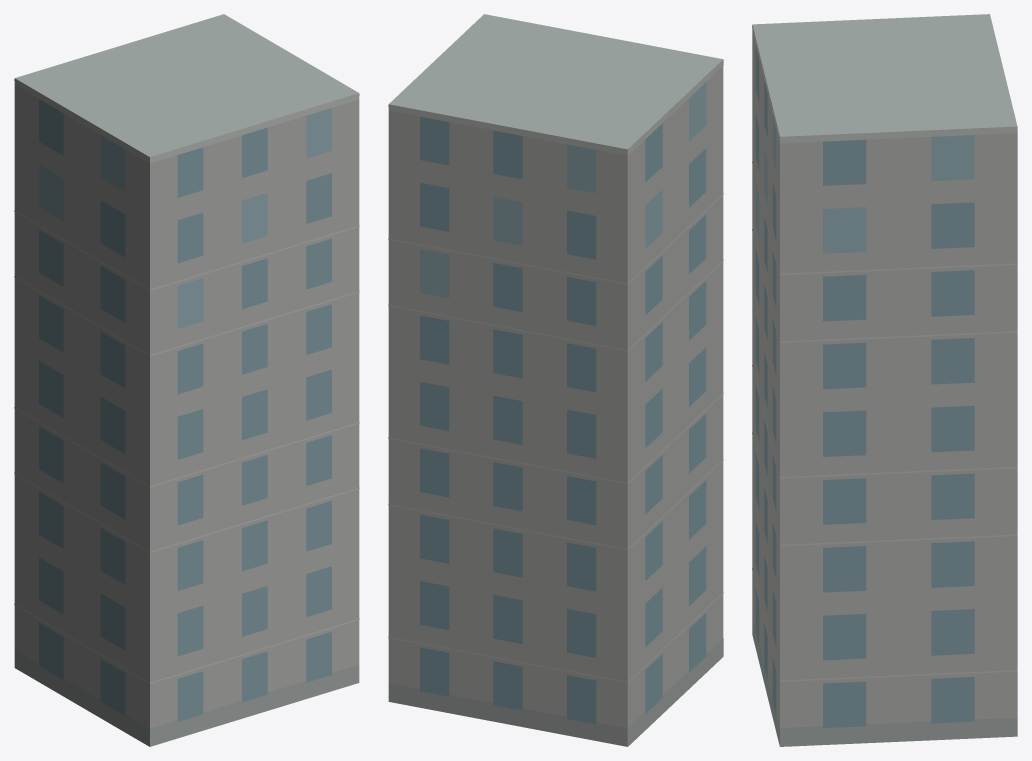
The model's file is survey-upis-32974123.glb.
3 views of the same model, side by side, from view 1: azimuth 30°, elevation 25°; view 2: azimuth 150°, elevation 25°; view 3: azimuth 270°, elevation 25° (orthographic). The views are drawn at different scales.
Parts seen in each view (by area): view 1: survey-upis-32974123.tmp; view 2: survey-upis-32974123.tmp; view 3: survey-upis-32974123.tmp.
Boxes of the visible parts, left/top/right/bottom form: survey-upis-32974123.tmp: left=14, top=14, right=359, bottom=746; survey-upis-32974123.tmp: left=388, top=14, right=723, bottom=746; survey-upis-32974123.tmp: left=752, top=14, right=1017, bottom=746.
Size of the model in its own units: 9.7 by 22.4 by 8.85.
